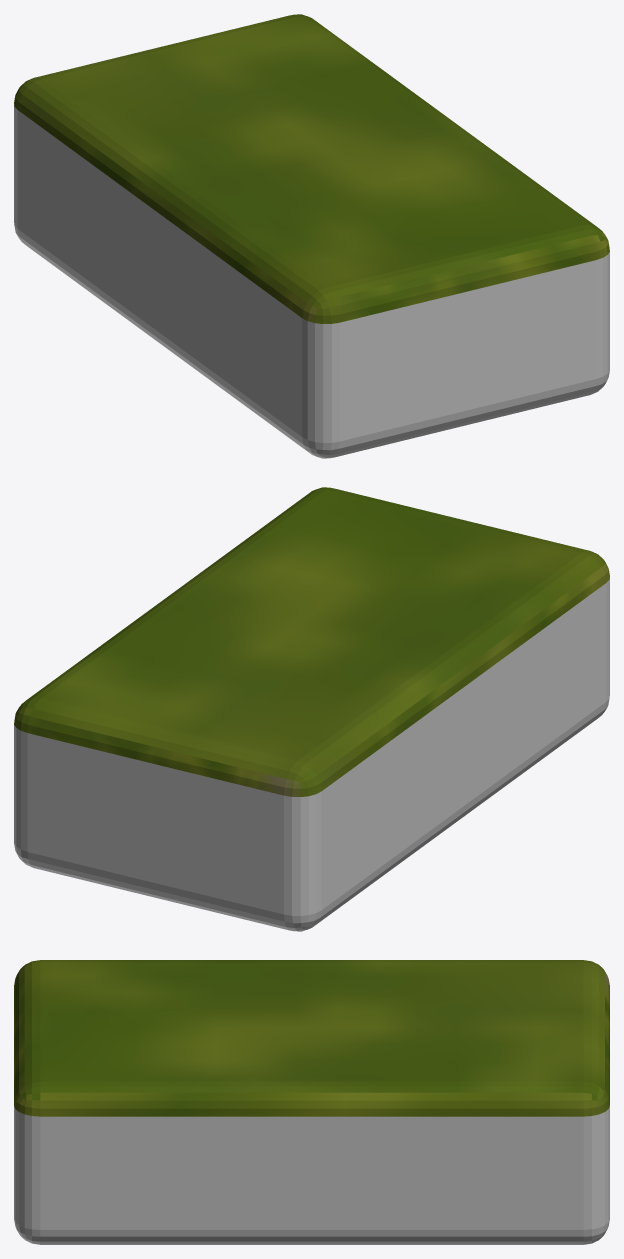
File: platform_solid.fbx
3 renders of one model, top to bottom at view 1: azimuth 30°, elevation 25°; view 2: azimuth 150°, elevation 25°; view 3: azimuth 270°, elevation 25°, orthographic. The views are drawn at different scales.
Visible parts, largest first — view 1: Cube; view 2: Cube; view 3: Cube.
Boxes of the visible parts, <box> form: Cube: <box>14,14,609,458</box>; Cube: <box>14,487,609,931</box>; Cube: <box>14,960,609,1244</box>.
Size of the model in its own units: 337 by 179 by 600.
